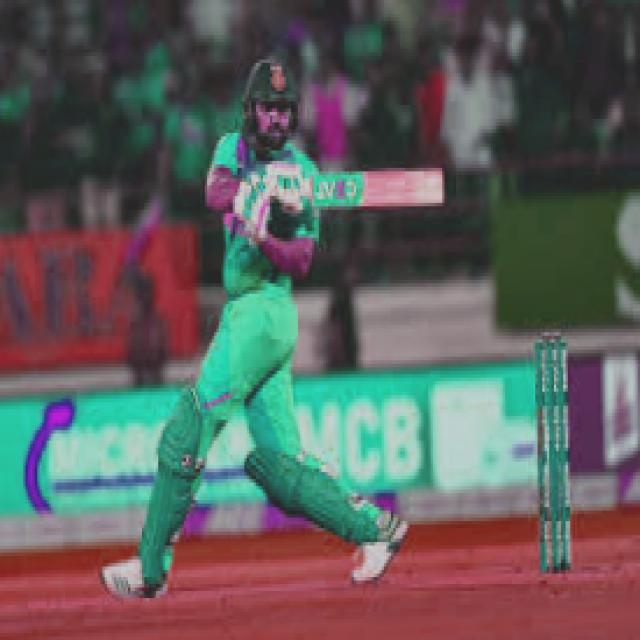toe: (428, 164, 448, 206)
